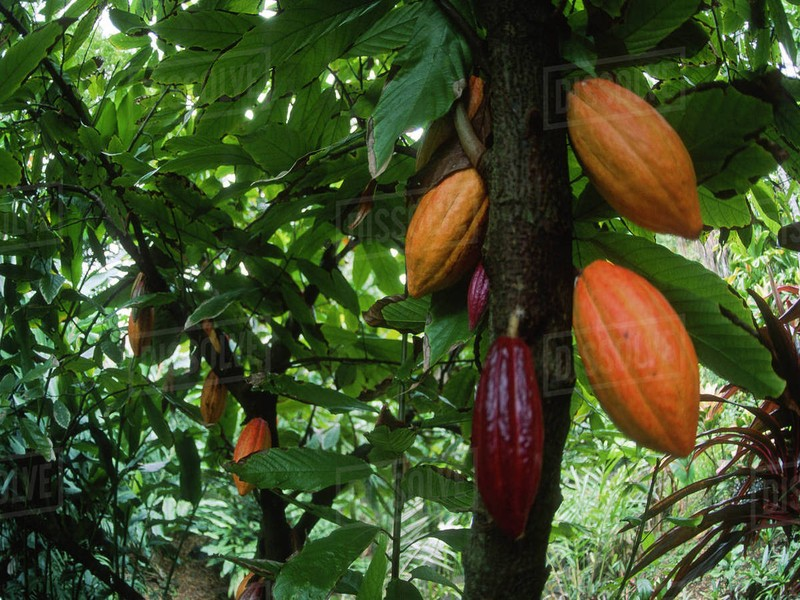Cacaopod: (571, 261, 700, 455), (564, 73, 702, 238), (475, 339, 547, 543), (403, 163, 489, 293)
